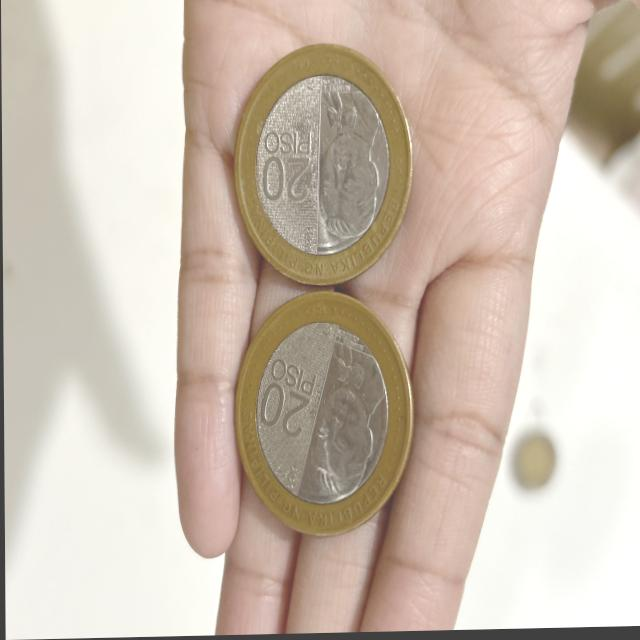20_New_Front: (250, 345, 322, 448), (252, 122, 322, 210)
